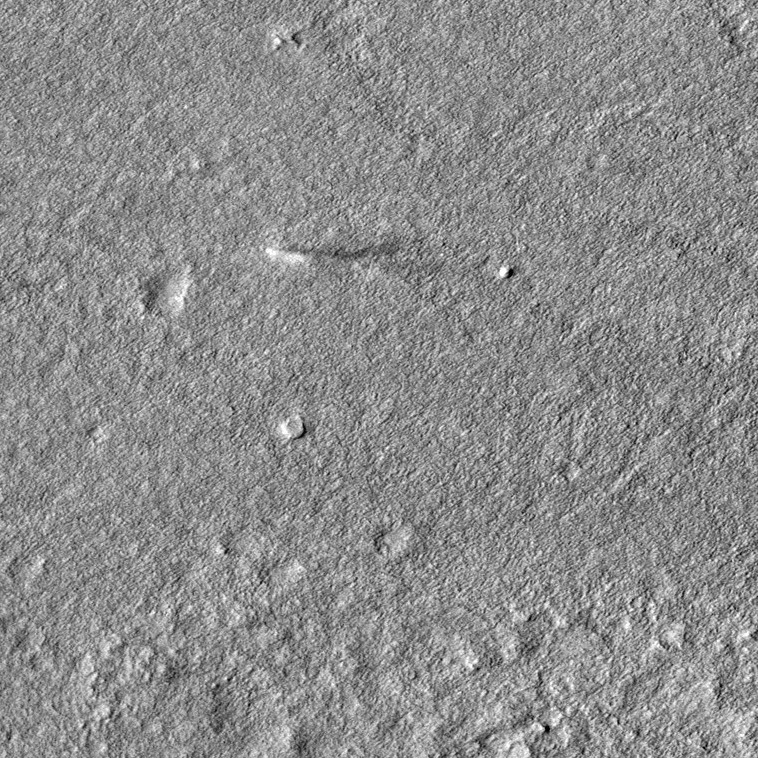dust_devil: (261, 236, 445, 284)
